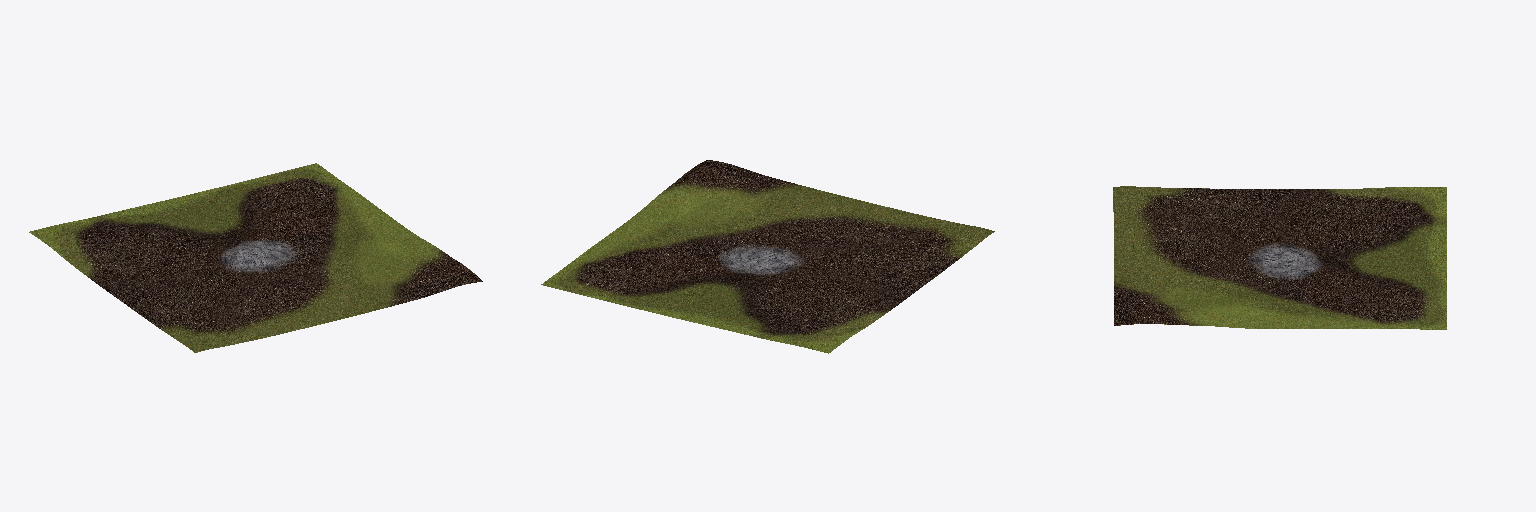
The picture shows the model from 3 angles: view 1: azimuth 30°, elevation 25°; view 2: azimuth 150°, elevation 25°; view 3: azimuth 270°, elevation 25°; orthographic projection.
Visible parts, largest first — view 1: Plane; view 2: Plane; view 3: Plane.
Boxes of the visible parts, box(x1,y1,x2,y2) form: Plane: box(29, 163, 482, 352); Plane: box(541, 160, 994, 353); Plane: box(1113, 186, 1446, 329).
Bounding box in the file's own units: 20.01 × 0.4792 × 20.
Materials: 1 (1 with a texture image).